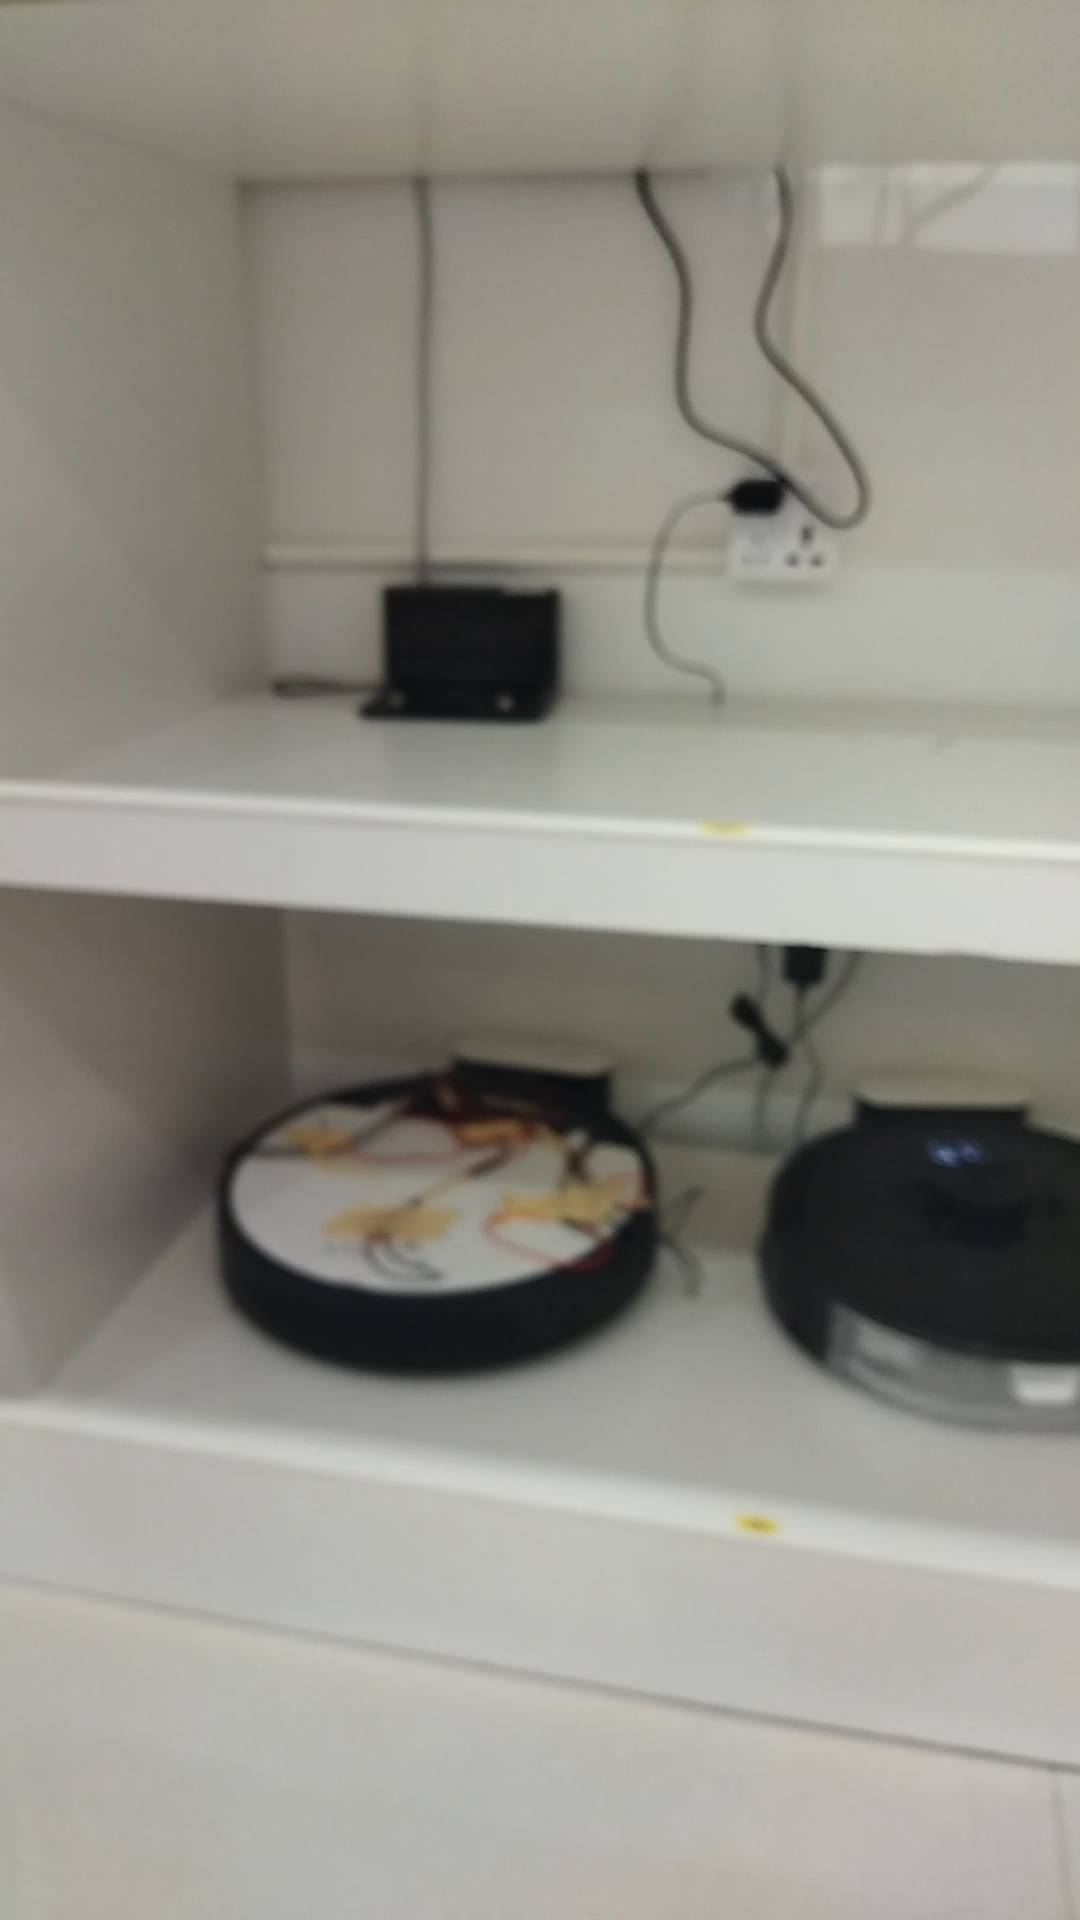recharge seat: (359, 574, 568, 729), (450, 1025, 622, 1097), (845, 1062, 1044, 1122)
